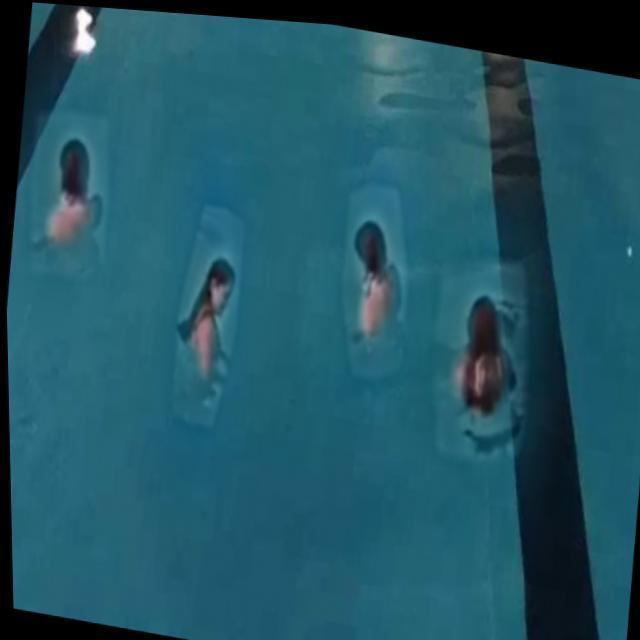swimming: (152, 207, 258, 420), (328, 199, 422, 392), (440, 266, 529, 458), (26, 118, 111, 263)
